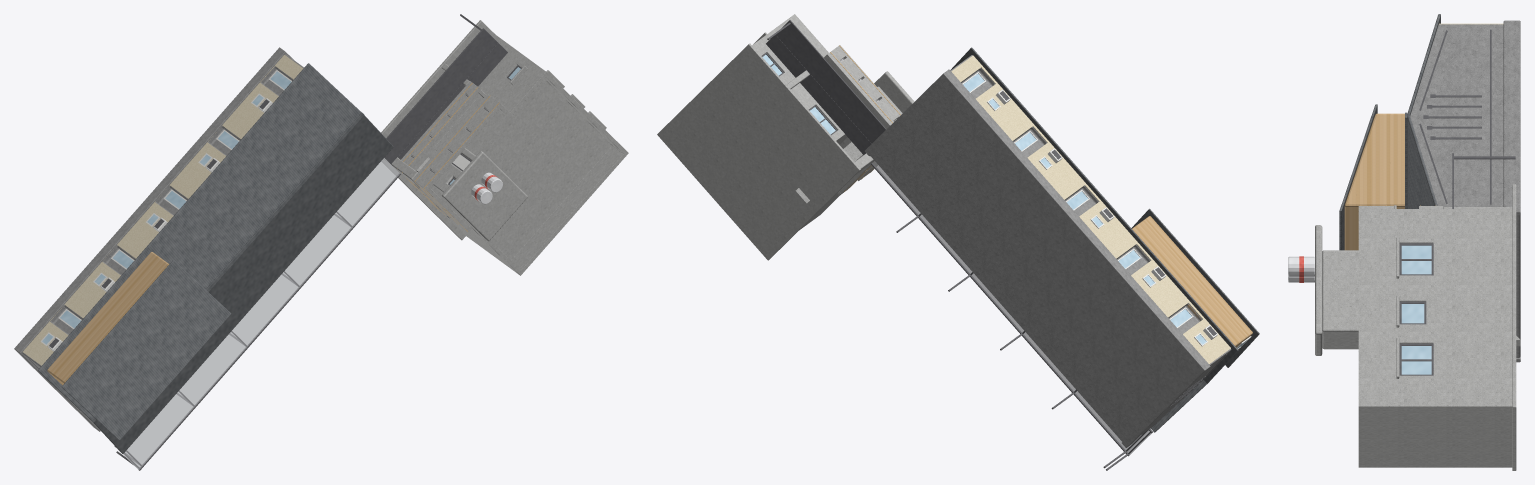
The picture shows the model from 3 angles, left to right: view 1: azimuth 30°, elevation 25°; view 2: azimuth 150°, elevation 25°; view 3: azimuth 270°, elevation 25°; orthographic projection. The views are drawn at different scales.
Parts seen in each view (by area): view 1: urn:npust:smart-agriculture-management-platform:building:gue (×10); view 2: urn:npust:smart-agriculture-management-platform:building:gue (×9); view 3: urn:npust:smart-agriculture-management-platform:building:gue (×7).
Boxes of the visible parts, left/top/right/bottom form: urn:npust:smart-agriculture-management-platform:building:gue (×10): left=14, top=14, right=628, bottom=470; urn:npust:smart-agriculture-management-platform:building:gue (×9): left=657, top=14, right=1259, bottom=470; urn:npust:smart-agriculture-management-platform:building:gue (×7): left=1288, top=14, right=1520, bottom=470.
Bounding box in the file's own units: 37.46 × 23.59 × 9.6.
13 materials, 12 textured.
